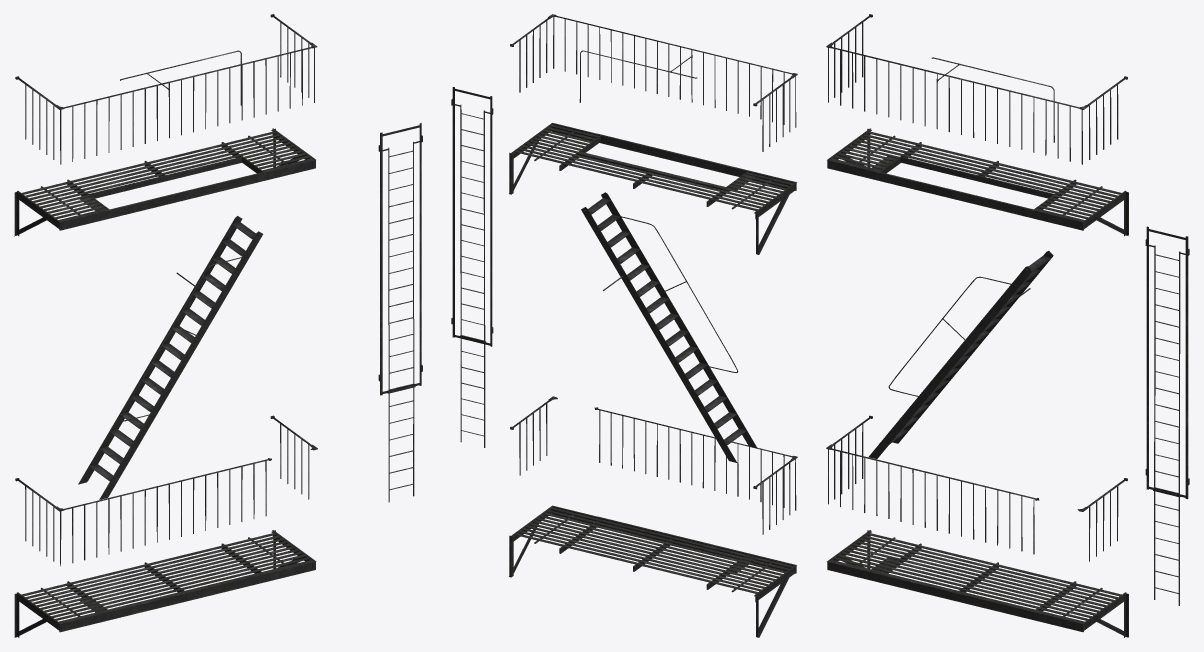
Rendered from ph_modular_fire_escape.glb.
3 renders of one model, left to right at view 1: azimuth 30°, elevation 25°; view 2: azimuth 150°, elevation 25°; view 3: azimuth 330°, elevation 25°, orthographic. The views are drawn at different scales.
Parts seen in each view (by area): view 1: modular_fire_escape_railing_middle; view 2: modular_fire_escape_railing_middle; view 3: modular_fire_escape_railing_middle.
Part boxes in pixels (x1,y1,x2,y2): modular_fire_escape_railing_middle: (14, 14, 422, 637); modular_fire_escape_railing_middle: (451, 14, 797, 637); modular_fire_escape_railing_middle: (826, 14, 1189, 637).
Bounding box in the file's own units: 6.66 × 9.76 × 1.42.
Materials: 3 (3 with a texture image).
